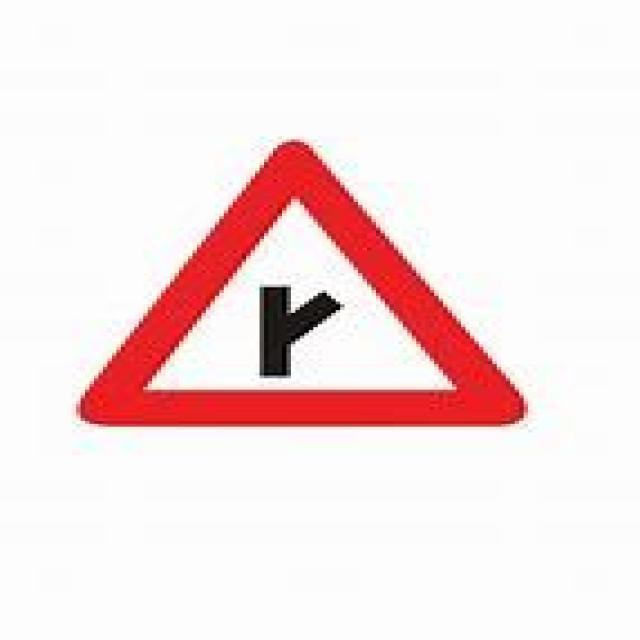y intersection: (69, 141, 532, 432)
